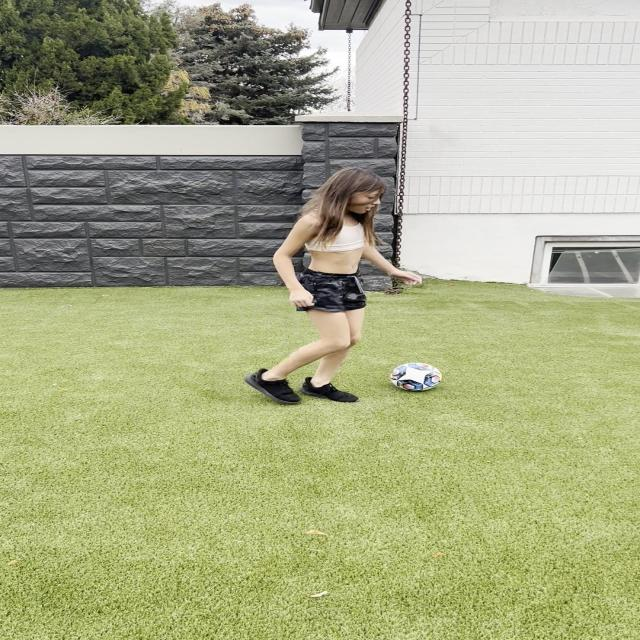Soccer Ball: (392, 363, 443, 392)
